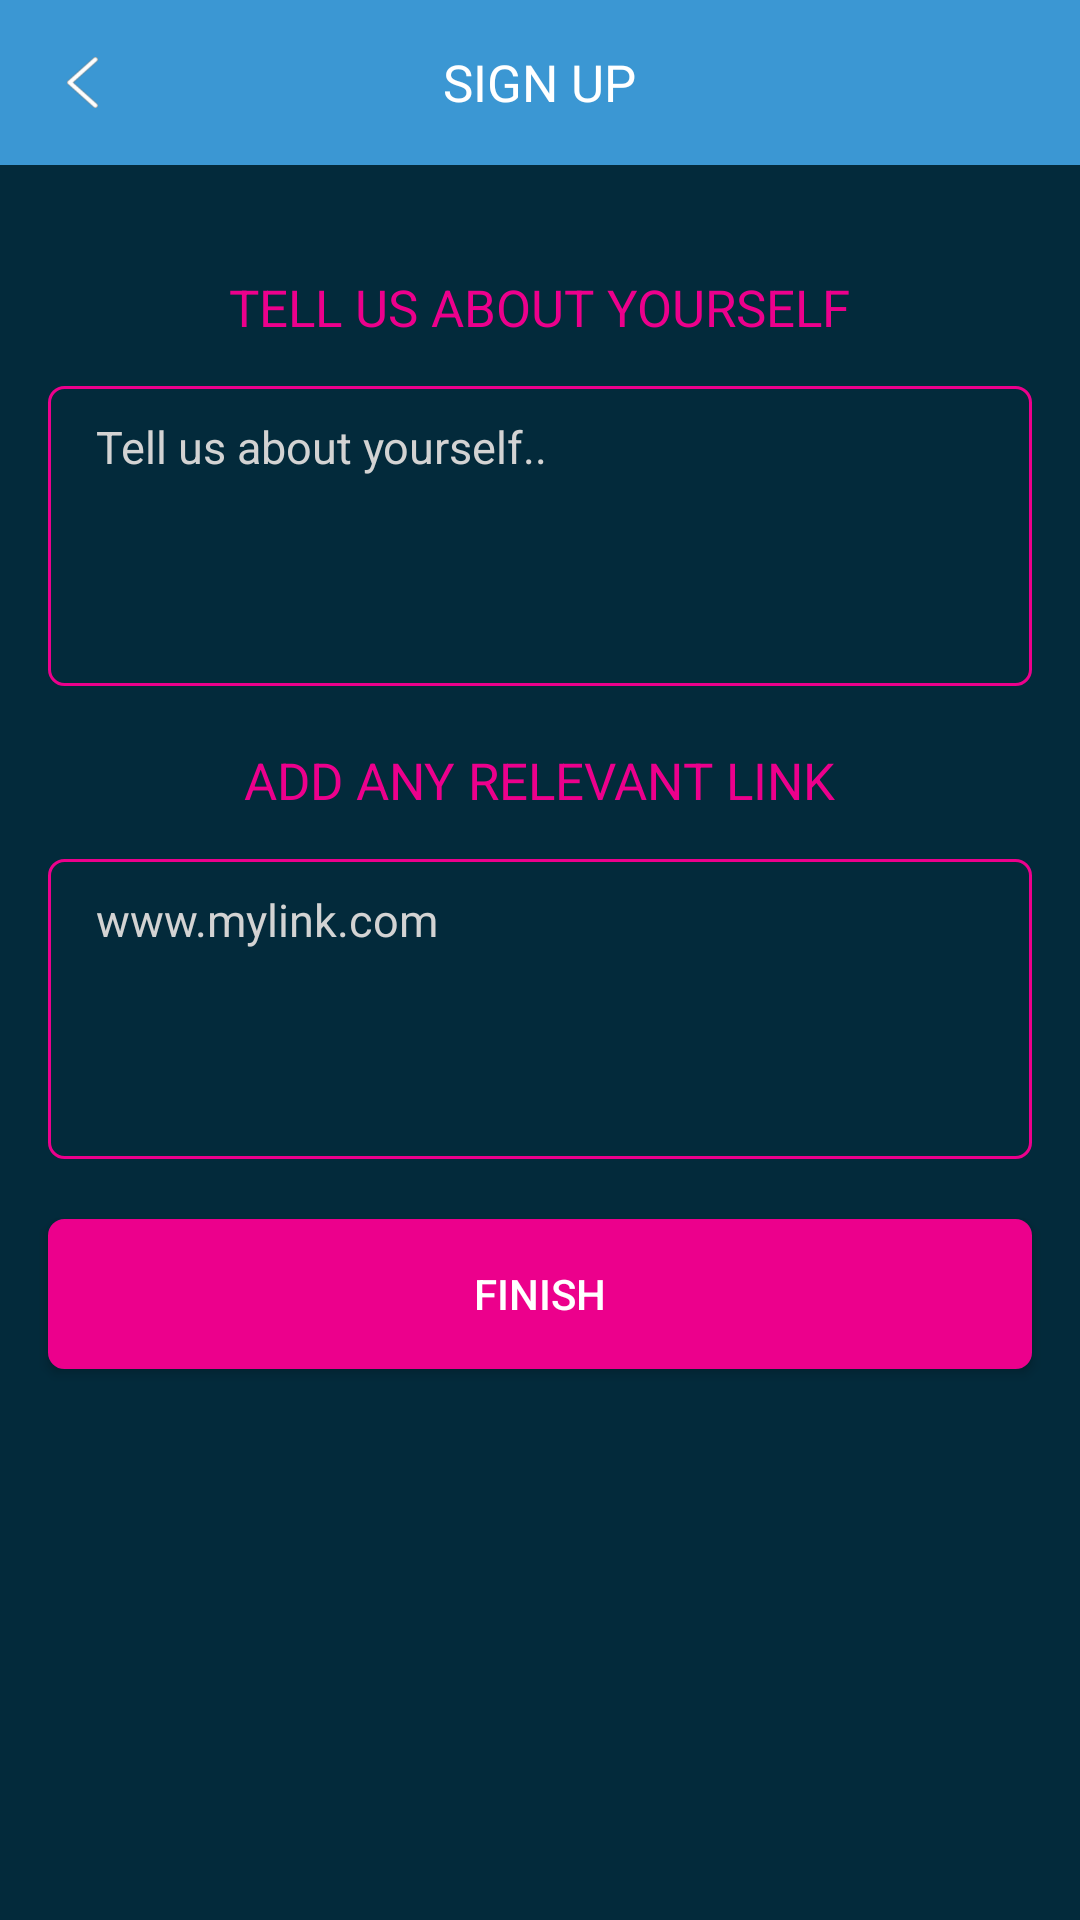

Icon bounding boxes for this 1080 x 1920 phone screenshot, format Rect(x1, y1, x2, y2):
arrow: Rect(67, 57, 98, 108)
